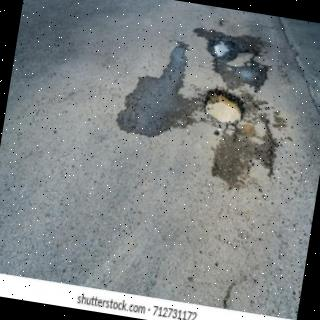pothole: (204, 89, 243, 125)
